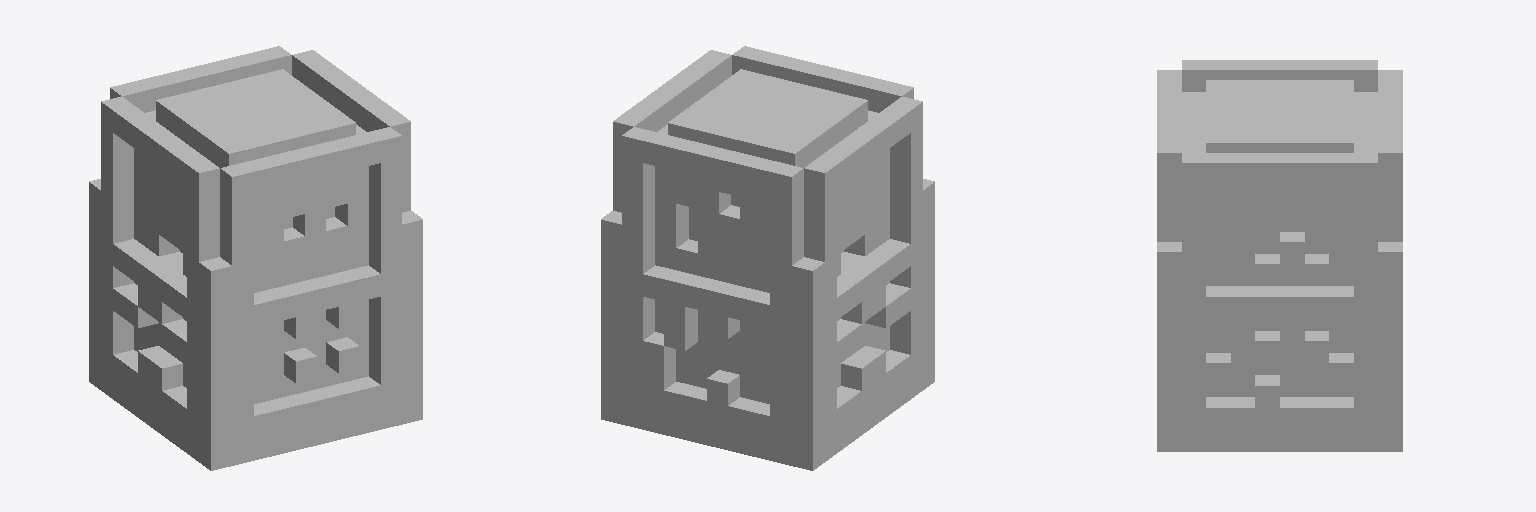
Rendered from stone.obj.
The picture shows the model from 3 angles: view 1: azimuth 30°, elevation 25°; view 2: azimuth 150°, elevation 25°; view 3: azimuth 270°, elevation 25°; orthographic projection.
Size of the model in its own units: 10 by 13 by 10.